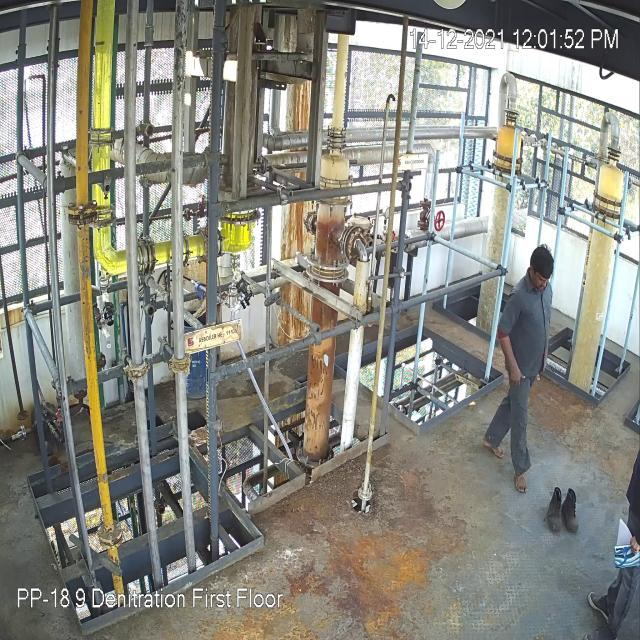no-shoes: (480, 433, 506, 459), (510, 464, 529, 494)
shoes: (560, 485, 583, 541), (543, 486, 563, 532)
